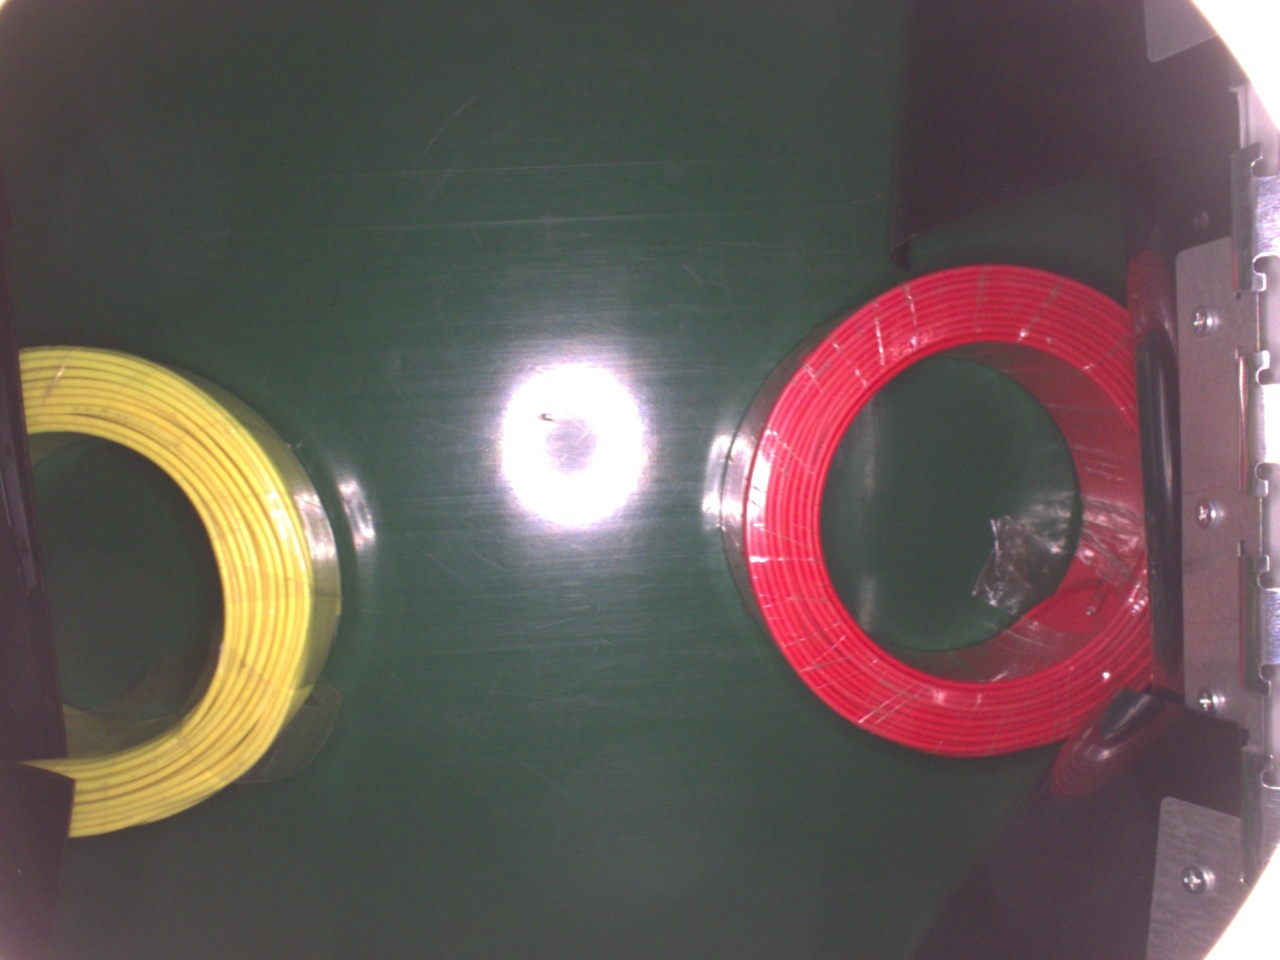red: (720, 260, 1155, 758)
yellow: (10, 342, 342, 837)
